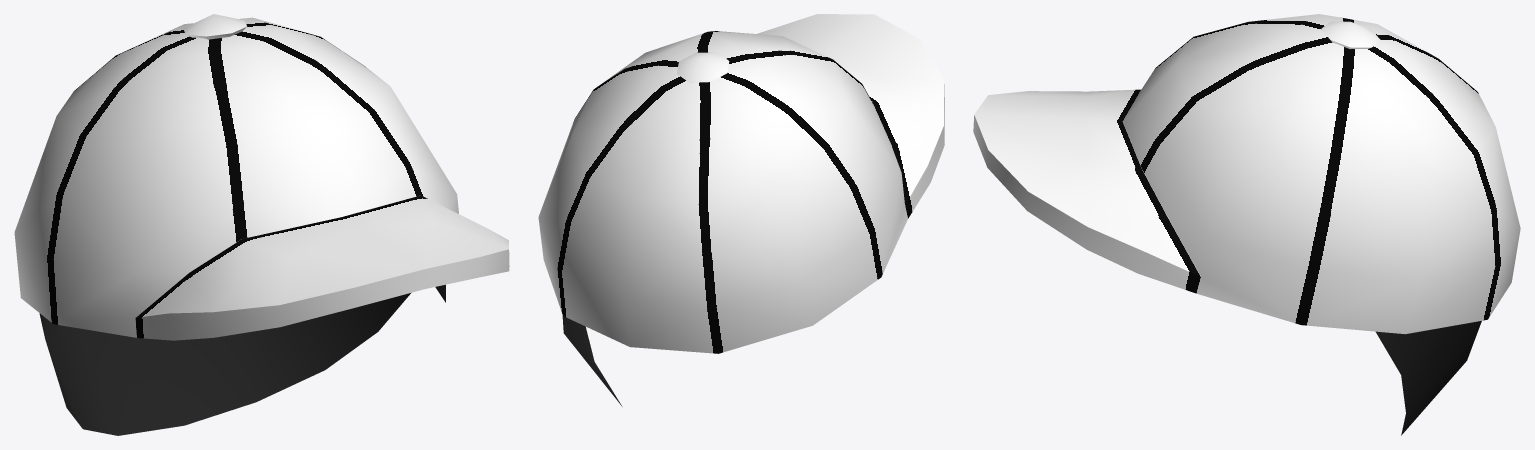
File: hat_cap.obj
3 views of the same model, side by side, from view 1: azimuth 30°, elevation 25°; view 2: azimuth 150°, elevation 25°; view 3: azimuth 270°, elevation 25° (orthographic). The views are drawn at different scales.
Visible parts, largest first — view 1: hat_cap; view 2: hat_cap; view 3: hat_cap.
Boxes of the visible parts, left/top/right/bottom form: hat_cap: left=14, top=14, right=509, bottom=435; hat_cap: left=538, top=14, right=944, bottom=406; hat_cap: left=973, top=14, right=1520, bottom=435.
Bounding box in the file's own units: 0.5836 × 0.6372 × 0.8109.
Materials: 2 (1 with a texture image).
